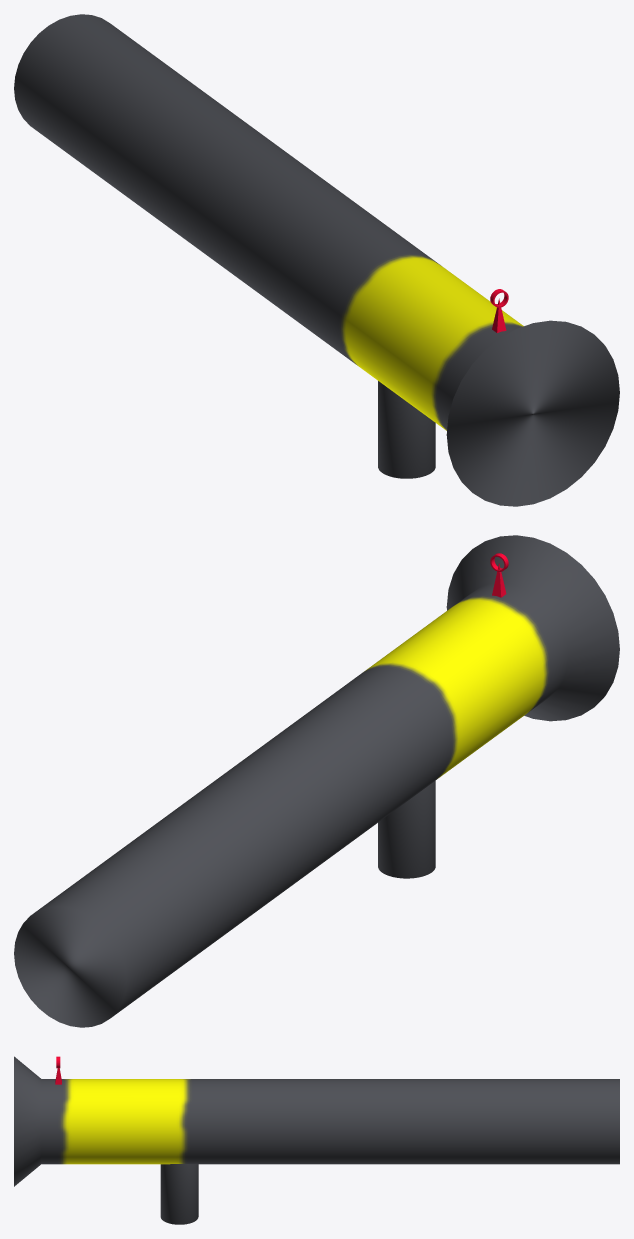
File: launcher.glb
3 renders of one model, top to bottom at view 1: azimuth 30°, elevation 25°; view 2: azimuth 150°, elevation 25°; view 3: azimuth 270°, elevation 25°, orthographic. The views are drawn at different scales.
Parts seen in each view (by area): view 1: Cylinder, Cylinder.001; view 2: Cylinder, Cylinder.001; view 3: Cylinder, Cylinder.001.
Part boxes in pixels (x1=…): Cylinder: x1=14, y1=14, x2=619, y2=506; Cylinder.001: x1=378, y1=381, x2=435, y2=478; Cylinder: x1=14, y1=535, x2=619, y2=1027; Cylinder.001: x1=378, y1=780, x2=435, y2=878; Cylinder: x1=14, y1=1056, x2=619, y2=1186; Cylinder.001: x1=160, y1=1164, x2=198, y2=1224.
Size of the model in its own units: 1.15 by 1.55 by 5.32.
2 materials, 2 textured.
